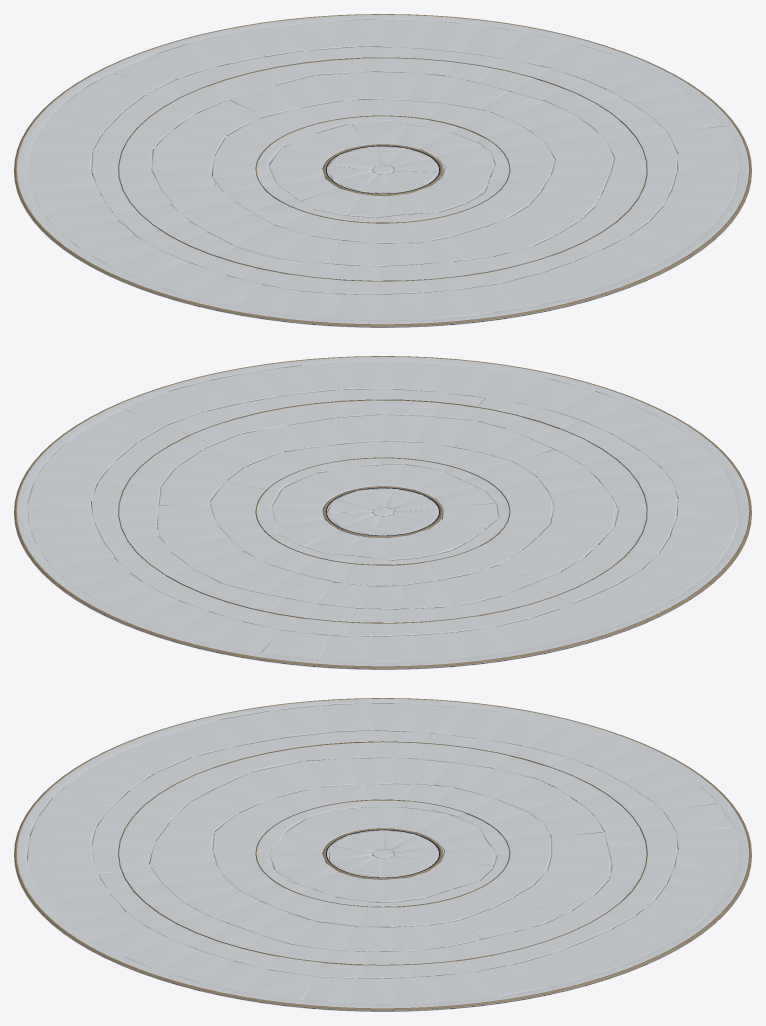
The model's file is ArenaFloorVisual.fbx.
The picture shows the model from 3 angles, top to bottom: view 1: azimuth 30°, elevation 25°; view 2: azimuth 150°, elevation 25°; view 3: azimuth 270°, elevation 25°; orthographic projection.
Visible parts, largest first — view 1: ArenaFloorVisual_Mesh; view 2: ArenaFloorVisual_Mesh; view 3: ArenaFloorVisual_Mesh.
Part boxes in pixels (x1,y1,x2,y2): ArenaFloorVisual_Mesh: [14, 14, 751, 327]; ArenaFloorVisual_Mesh: [14, 356, 751, 669]; ArenaFloorVisual_Mesh: [14, 698, 751, 1011].
Size of the model in its own units: 30 by 0.12 by 30.
